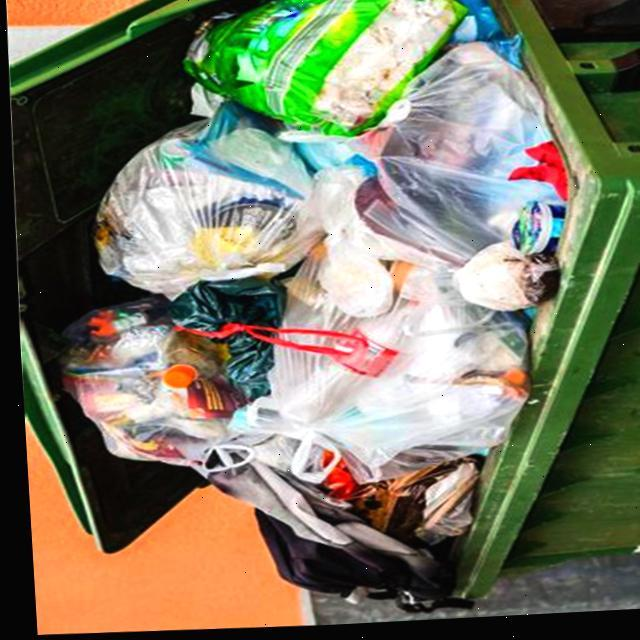Foam Paper: (202, 462, 432, 584)
Garbage: (55, 0, 563, 616)
Metal: (219, 430, 294, 475)
Plastic: (448, 0, 520, 74), (314, 257, 390, 320), (507, 206, 562, 259), (188, 84, 225, 119)
Plastic_Bag: (225, 247, 523, 484), (340, 40, 556, 265), (92, 103, 319, 298), (182, 0, 465, 138), (55, 296, 249, 478), (165, 279, 390, 399), (293, 139, 442, 272), (278, 133, 339, 145)
Rubber: (248, 510, 464, 615)
